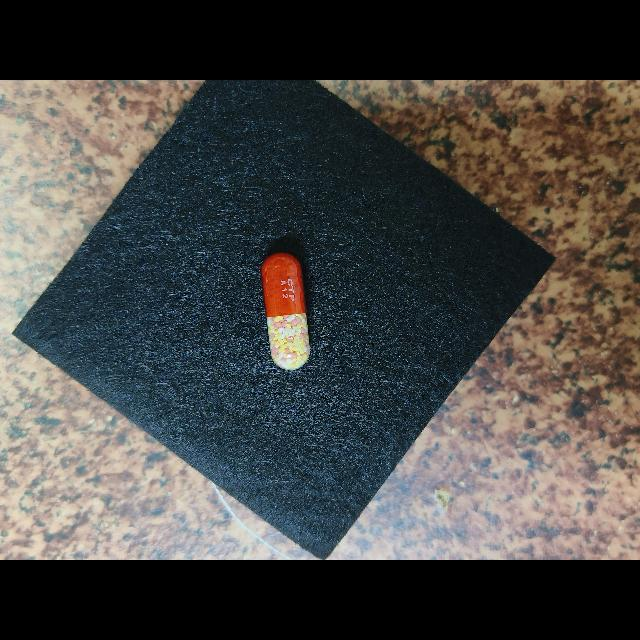Intact Capsule: (261, 253, 310, 370)
